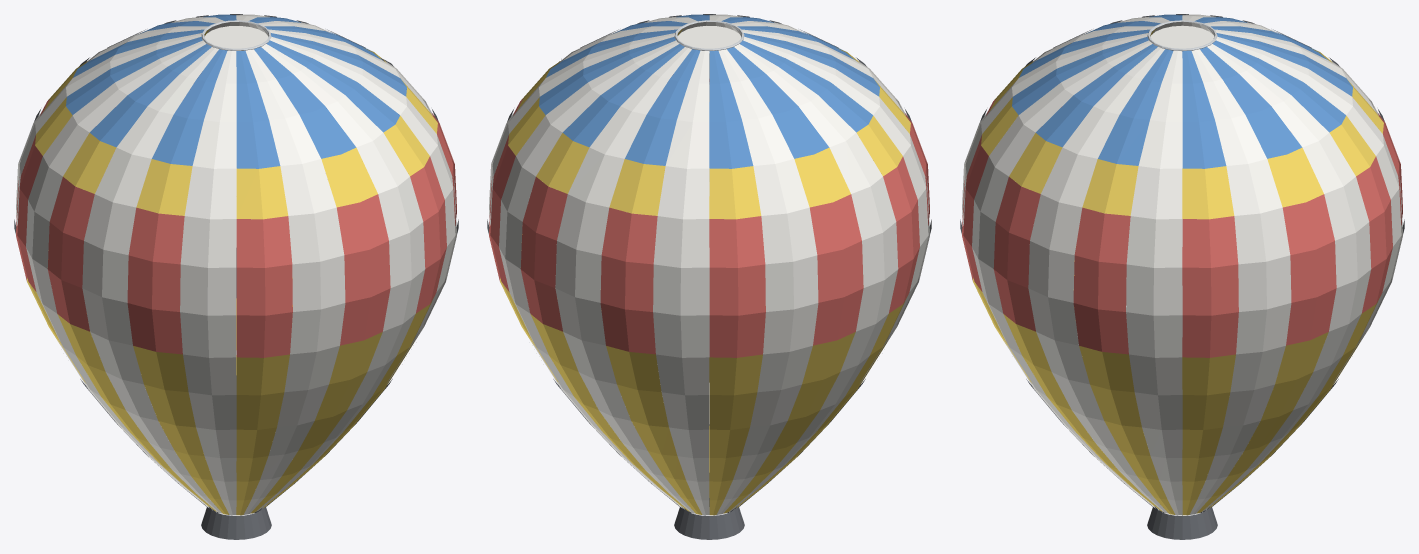
Rendered from hot-air-balloon-festival-balloon-envelope-inflated-sun-017faee0__38464.glb.
3 renders of one model, left to right at view 1: azimuth 30°, elevation 25°; view 2: azimuth 150°, elevation 25°; view 3: azimuth 270°, elevation 25°, orthographic.
Parts seen in each view (by area): view 1: balloon-envelope-inflated-sunrise-livery-canvasB, balloon-envelope-inflated-sunrise-livery-canvasC, balloon-envelope-inflated-sunrise-livery-canvasA, balloon-envelope-inflated-sunrise-livery-canvasD, balloon-envelope-inflated-sunrise-livery-charcoal; view 2: balloon-envelope-inflated-sunrise-livery-canvasB, balloon-envelope-inflated-sunrise-livery-canvasC, balloon-envelope-inflated-sunrise-livery-canvasA, balloon-envelope-inflated-sunrise-livery-canvasD, balloon-envelope-inflated-sunrise-livery-charcoal; view 3: balloon-envelope-inflated-sunrise-livery-canvasB, balloon-envelope-inflated-sunrise-livery-canvasC, balloon-envelope-inflated-sunrise-livery-canvasA, balloon-envelope-inflated-sunrise-livery-canvasD, balloon-envelope-inflated-sunrise-livery-charcoal.
Boxes of the visible parts, <box> form: balloon-envelope-inflated-sunrise-livery-canvasB: <box>16,14,456,515</box>; balloon-envelope-inflated-sunrise-livery-canvasC: <box>16,99,456,357</box>; balloon-envelope-inflated-sunrise-livery-canvasA: <box>27,29,437,515</box>; balloon-envelope-inflated-sunrise-livery-canvasD: <box>66,14,406,168</box>; balloon-envelope-inflated-sunrise-livery-charcoal: <box>14,14,458,539</box>; balloon-envelope-inflated-sunrise-livery-canvasB: <box>489,14,929,515</box>; balloon-envelope-inflated-sunrise-livery-canvasC: <box>489,79,929,357</box>; balloon-envelope-inflated-sunrise-livery-canvasA: <box>500,29,910,515</box>; balloon-envelope-inflated-sunrise-livery-canvasD: <box>539,14,879,168</box>; balloon-envelope-inflated-sunrise-livery-charcoal: <box>487,14,931,539</box>; balloon-envelope-inflated-sunrise-livery-canvasB: <box>962,14,1402,515</box>; balloon-envelope-inflated-sunrise-livery-canvasC: <box>962,99,1402,357</box>; balloon-envelope-inflated-sunrise-livery-canvasA: <box>973,28,1383,515</box>; balloon-envelope-inflated-sunrise-livery-canvasD: <box>1012,14,1352,168</box>; balloon-envelope-inflated-sunrise-livery-charcoal: <box>960,14,1404,539</box>.
Bounding box in the file's own units: 17.21 × 21.24 × 17.21.
